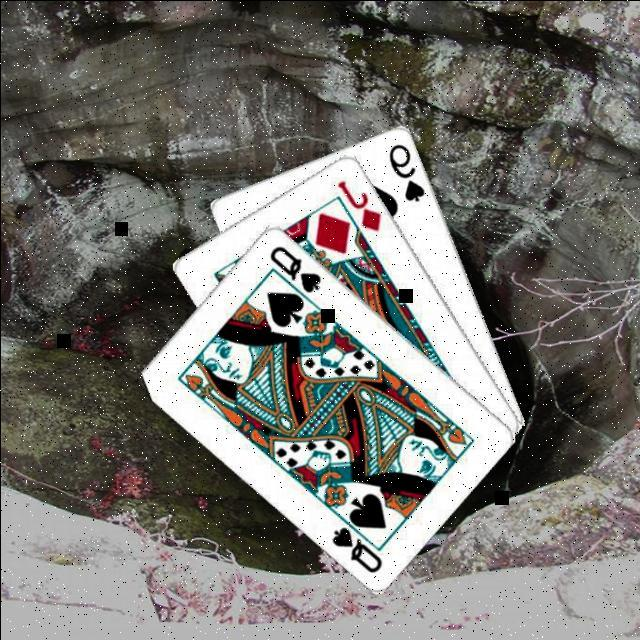9S: (387, 138, 429, 203)
JD: (335, 175, 385, 231)
QS: (267, 240, 325, 294), (330, 521, 387, 573)
